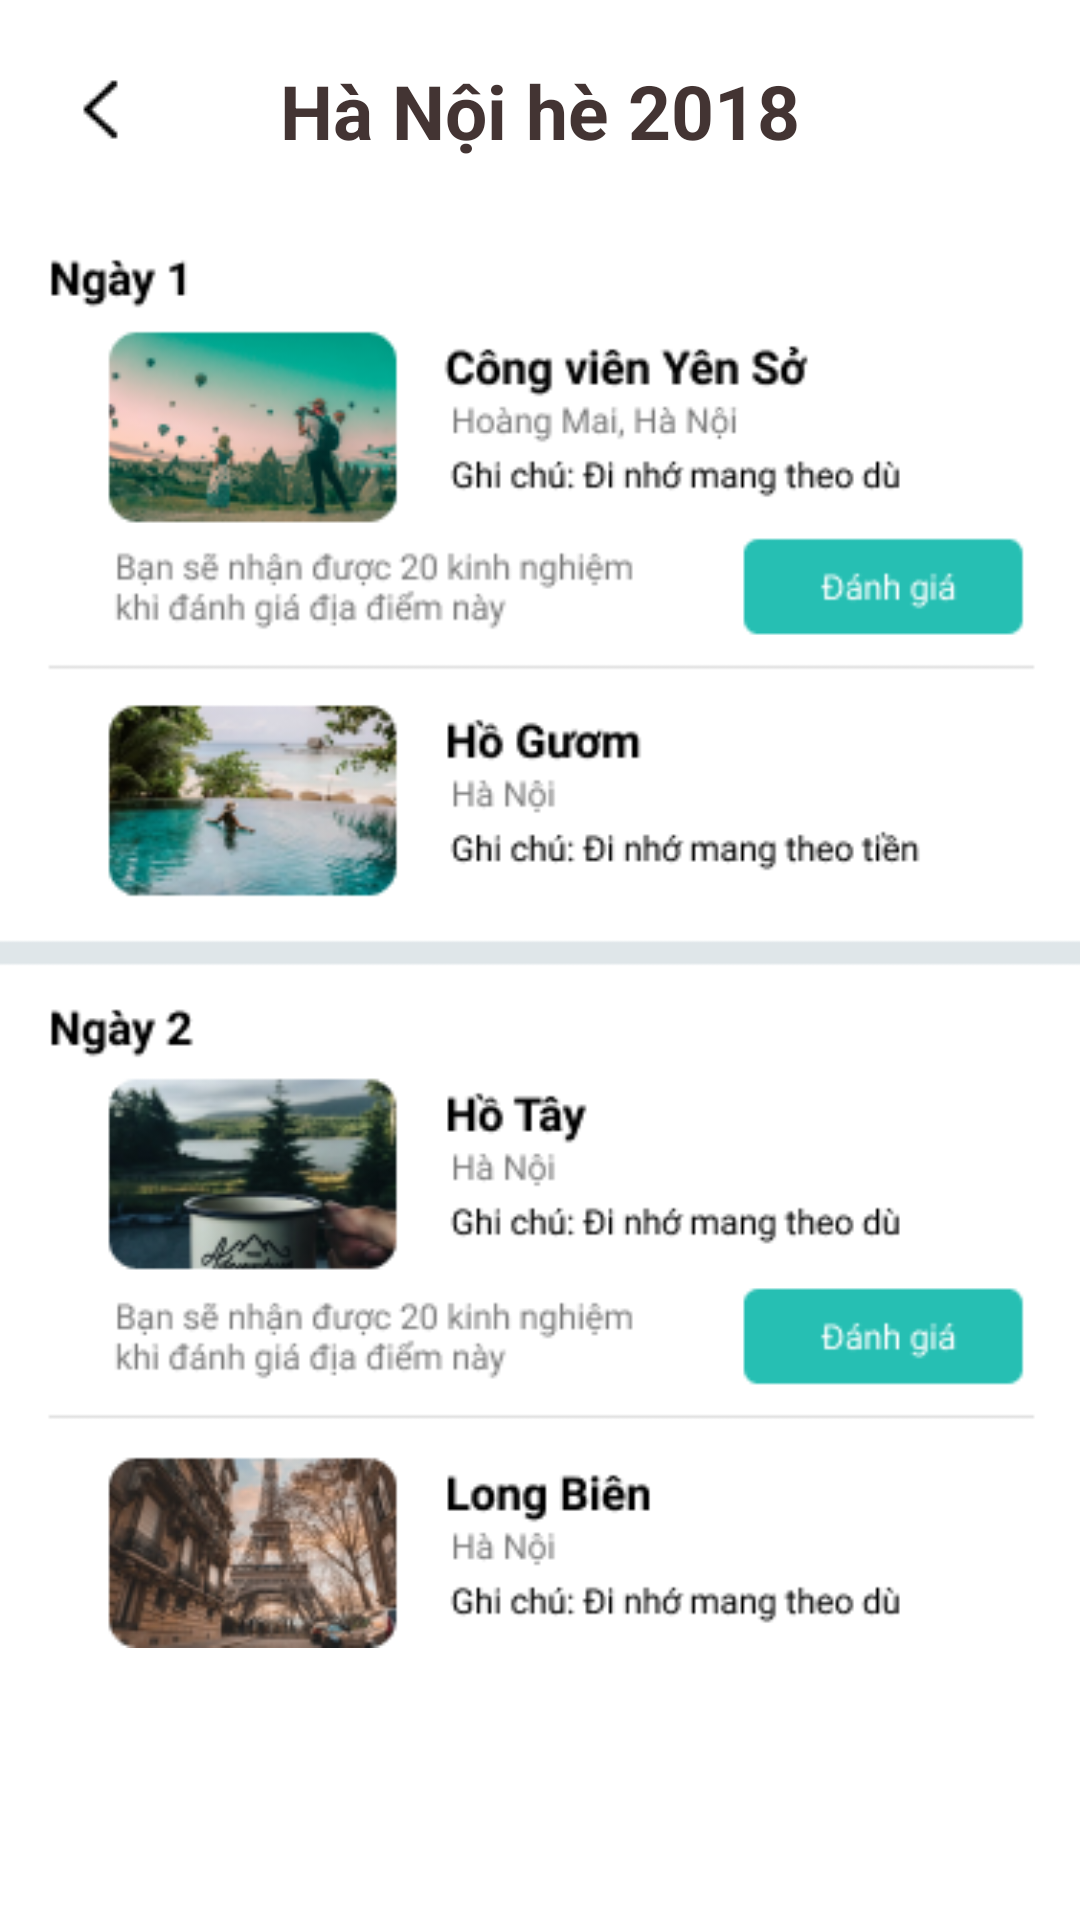

Where to tap for icons on this 1080px×1920px app screen, as (x=x, y=y):
back: (x=100, y=109)
